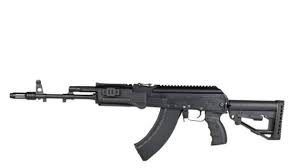gun: (8, 79, 285, 162)
